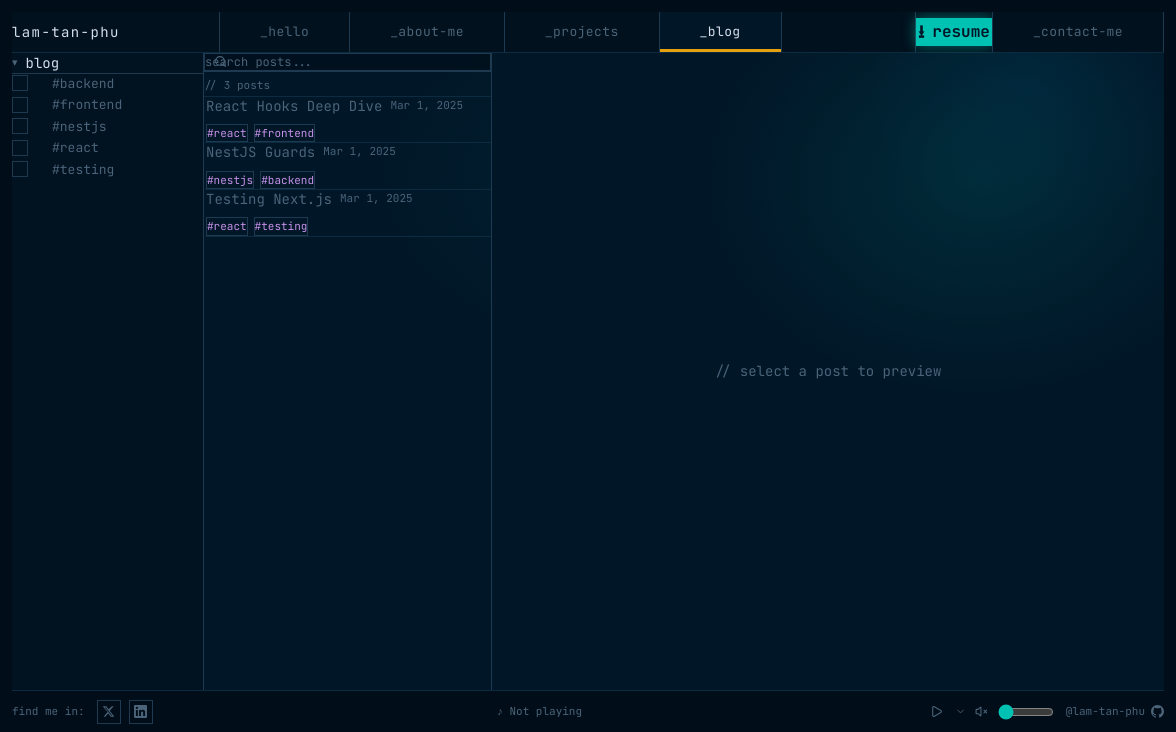
Scenario: BlogPage — tag filtering › shows the active filters and removes them all with the × button
Click the checkbox labelled "#react".
click(55, 148)  # box [12,139,99,156]
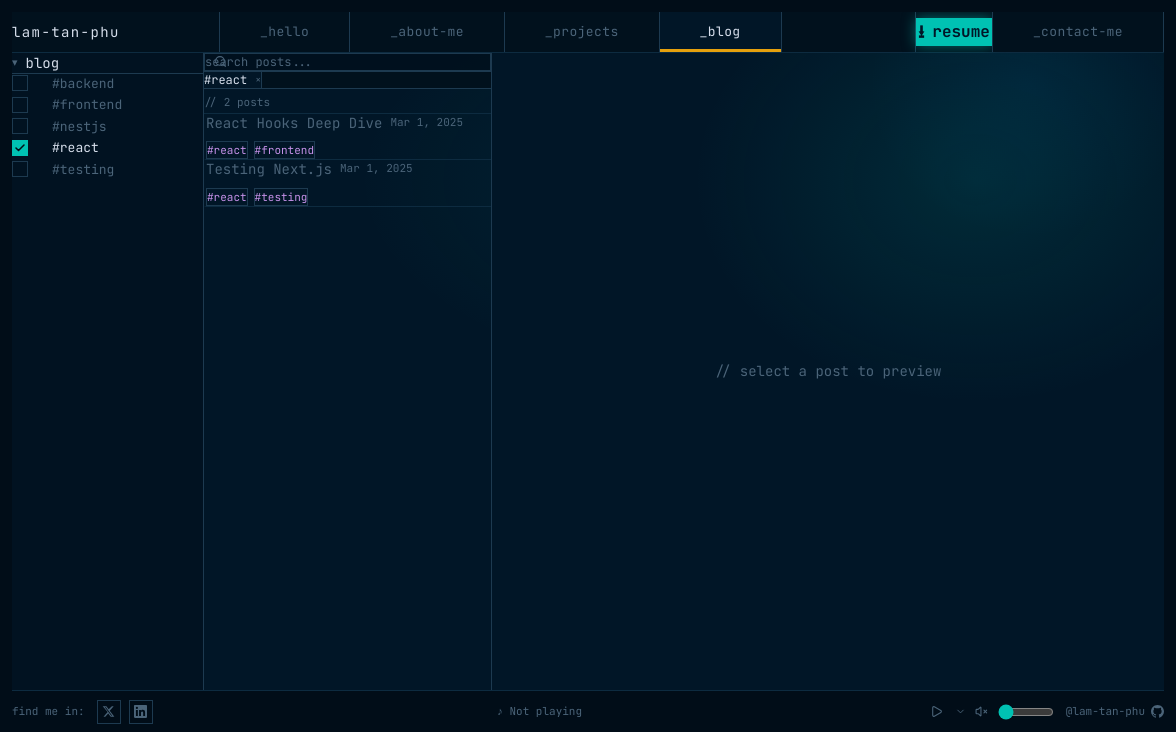
Click the checkbox labelled "#backend".
click(63, 83)  # box [12,74,114,92]
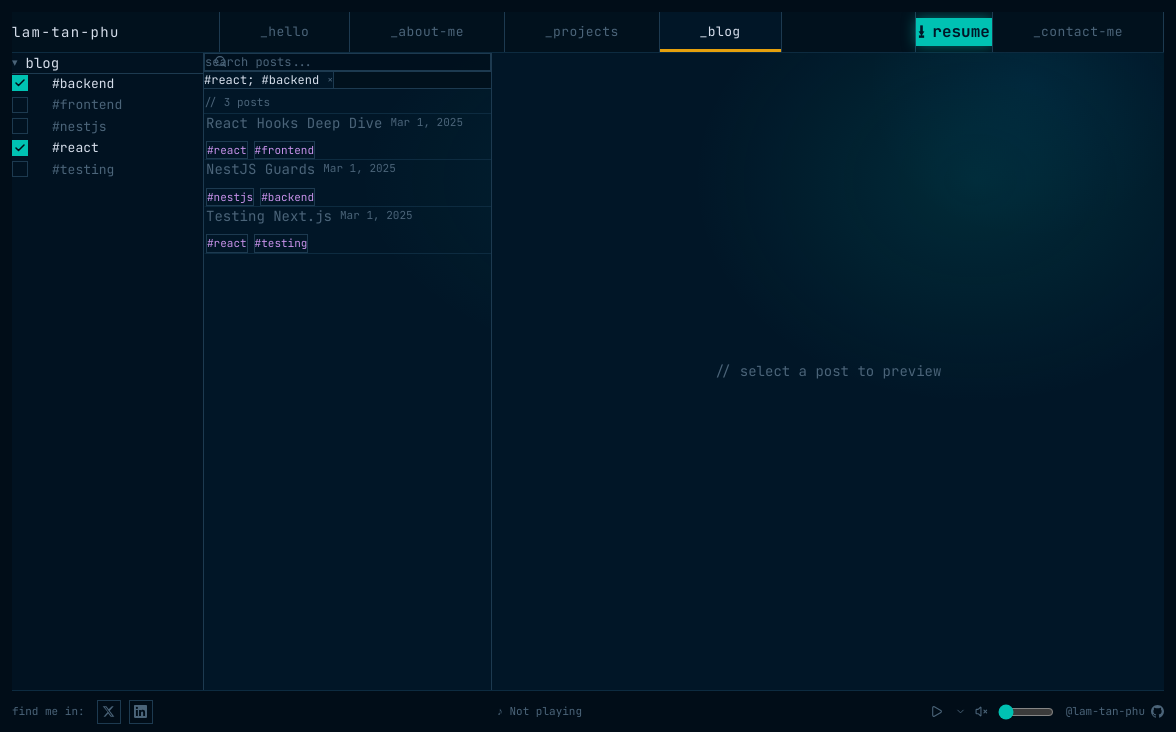
Check: the text "#react; #backend" is shown, box [204,72,319,88]
Click the button titled "Clear filters".
click(330, 80)  # box [327,72,333,87]
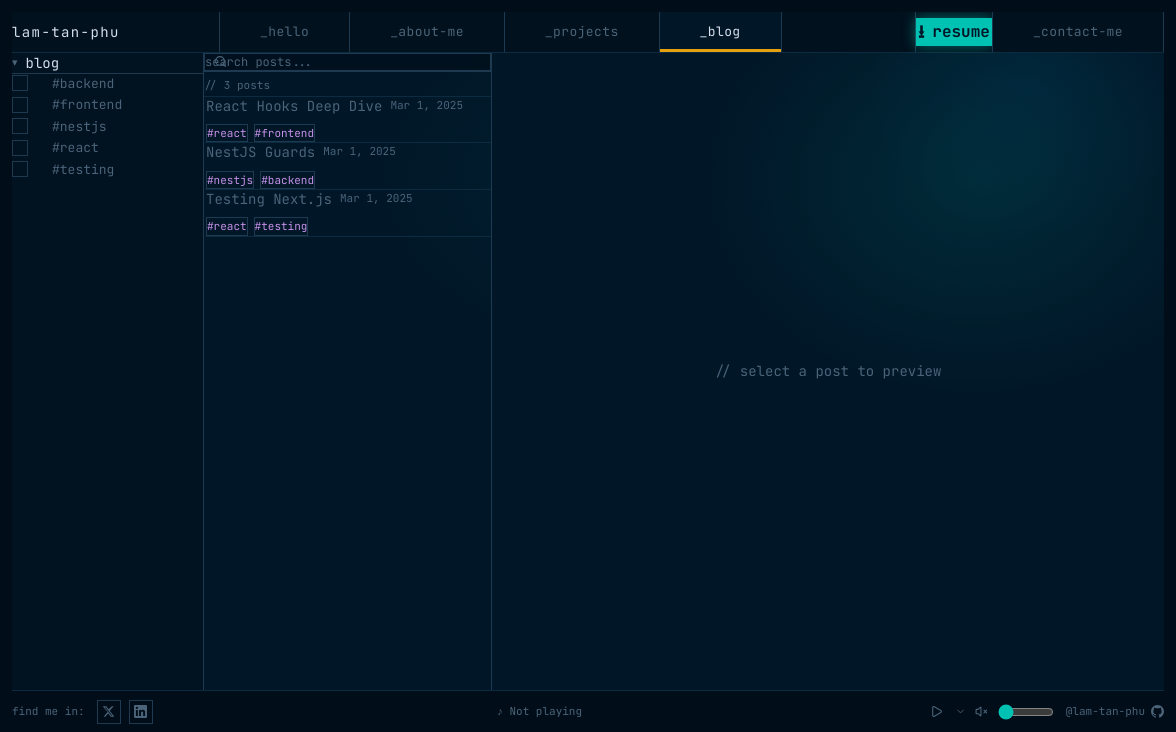
Check: the text "// 3 posts" is shown, box [204,78,270,92]
Check: the text "#react; #backend" is gone
